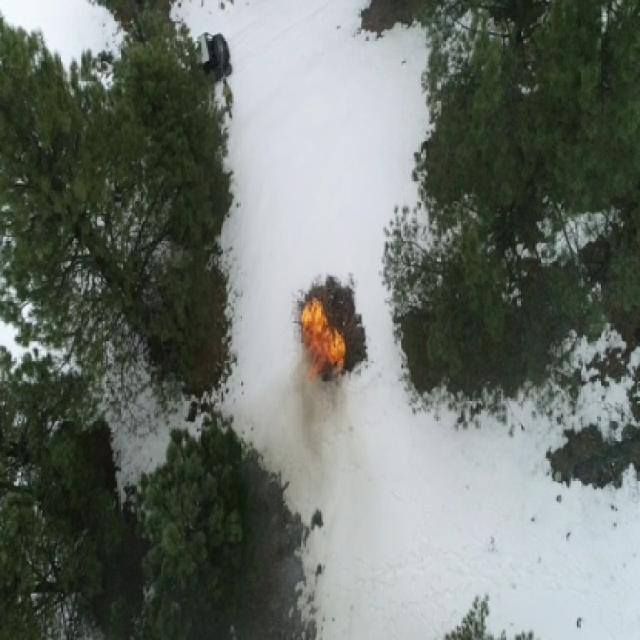Fire: (297, 294, 346, 381)
